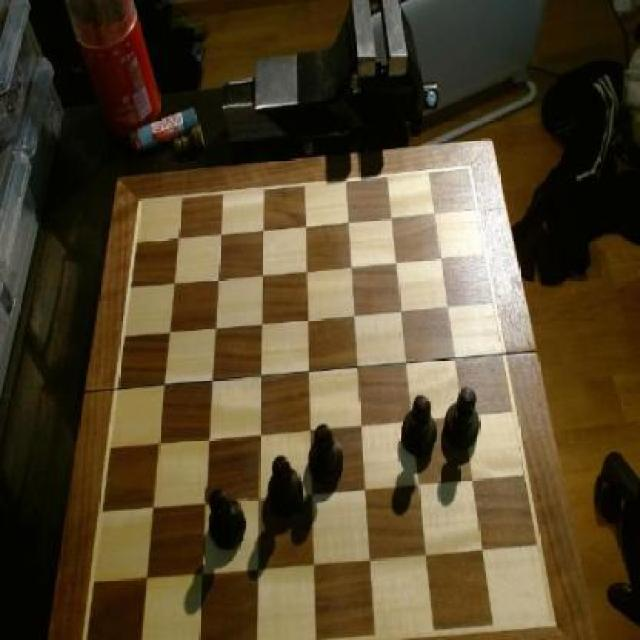black-knight: (206, 485, 251, 553), (443, 385, 483, 457), (266, 454, 306, 526), (308, 422, 344, 489), (402, 395, 436, 461)
